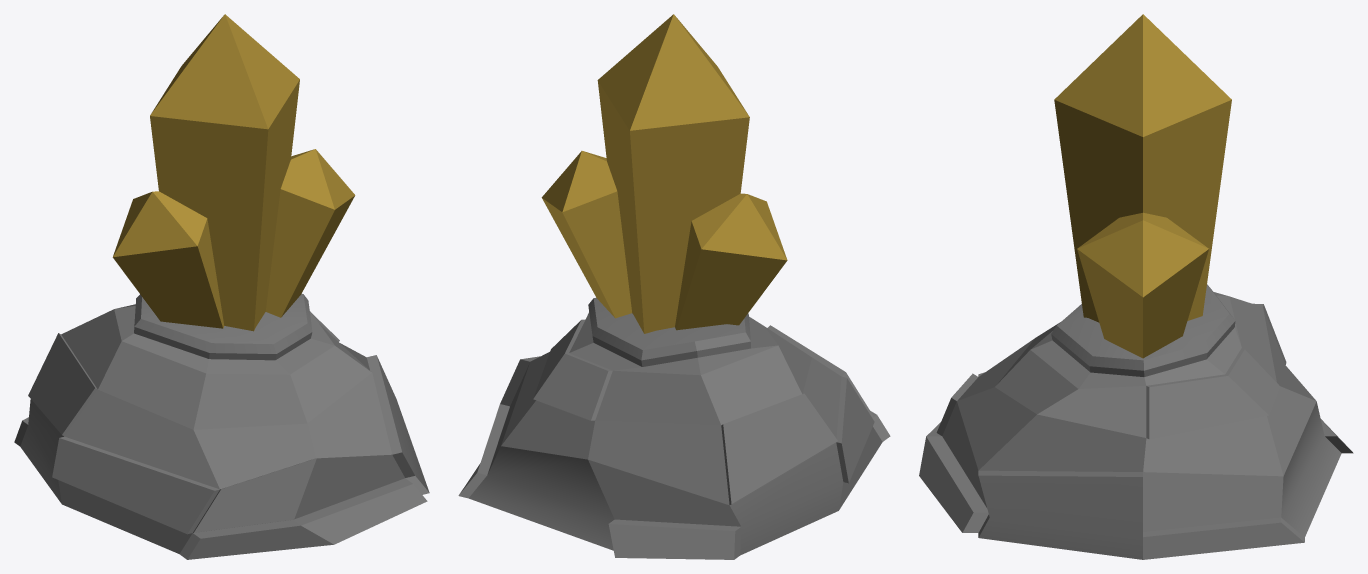
The model's file is baseCore.fbx.
3 renders of one model, left to right at view 1: azimuth 30°, elevation 25°; view 2: azimuth 150°, elevation 25°; view 3: azimuth 270°, elevation 25°, orthographic. The views are drawn at different scales.
Parts seen in each view (by area): view 1: rockBase, baseCrystal, baseCrystal1, baseCrystal2; view 2: rockBase, baseCrystal, baseCrystal1, baseCrystal2; view 3: rockBase, baseCrystal, baseCrystal2.
Boxes of the visible parts, x1=… form: rockBase: x1=14, y1=293, x2=429, y2=559; baseCrystal: x1=150, y1=14, x2=299, y2=331; baseCrystal1: x1=112, y1=191, x2=224, y2=328; baseCrystal2: x1=265, y1=149, x2=355, y2=317; rockBase: x1=458, y1=298, x2=890, y2=559; baseCrystal: x1=597, y1=14, x2=749, y2=333; baseCrystal1: x1=675, y1=193, x2=787, y2=330; baseCrystal2: x1=541, y1=151, x2=631, y2=318; rockBase: x1=919, y1=284, x2=1353, y2=559; baseCrystal: x1=1054, y1=14, x2=1231, y2=322; baseCrystal2: x1=1077, y1=212, x2=1208, y2=358.
Bounding box in the file's own units: 124 × 155 × 132.
